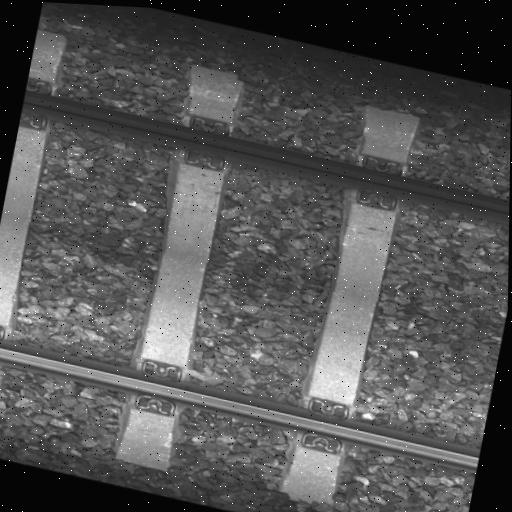clip: (129, 356, 182, 417), (177, 111, 227, 170), (354, 153, 397, 211), (303, 399, 347, 453), (23, 77, 57, 132), (0, 322, 5, 376)
sleeper: (112, 60, 243, 473), (289, 100, 408, 510), (0, 25, 69, 434)
